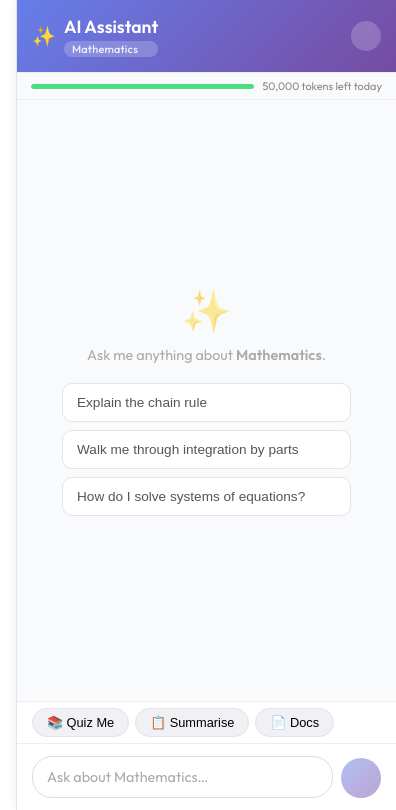
Test: AiAssistant component › send button is enabled when input has text
The image size is (396, 810).
In the text box: (182,777) [32,756,333,798], type "What is calculus?"
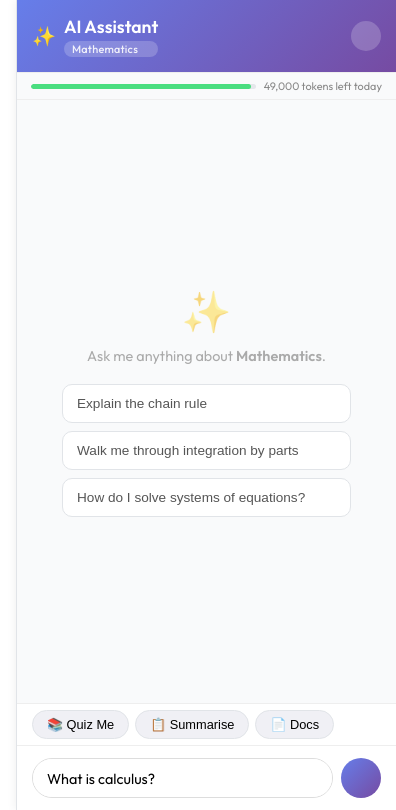
Check: the button titled "Send" is enabled, box [341,758,381,798]
